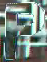Parking: (5, 1, 45, 61)
